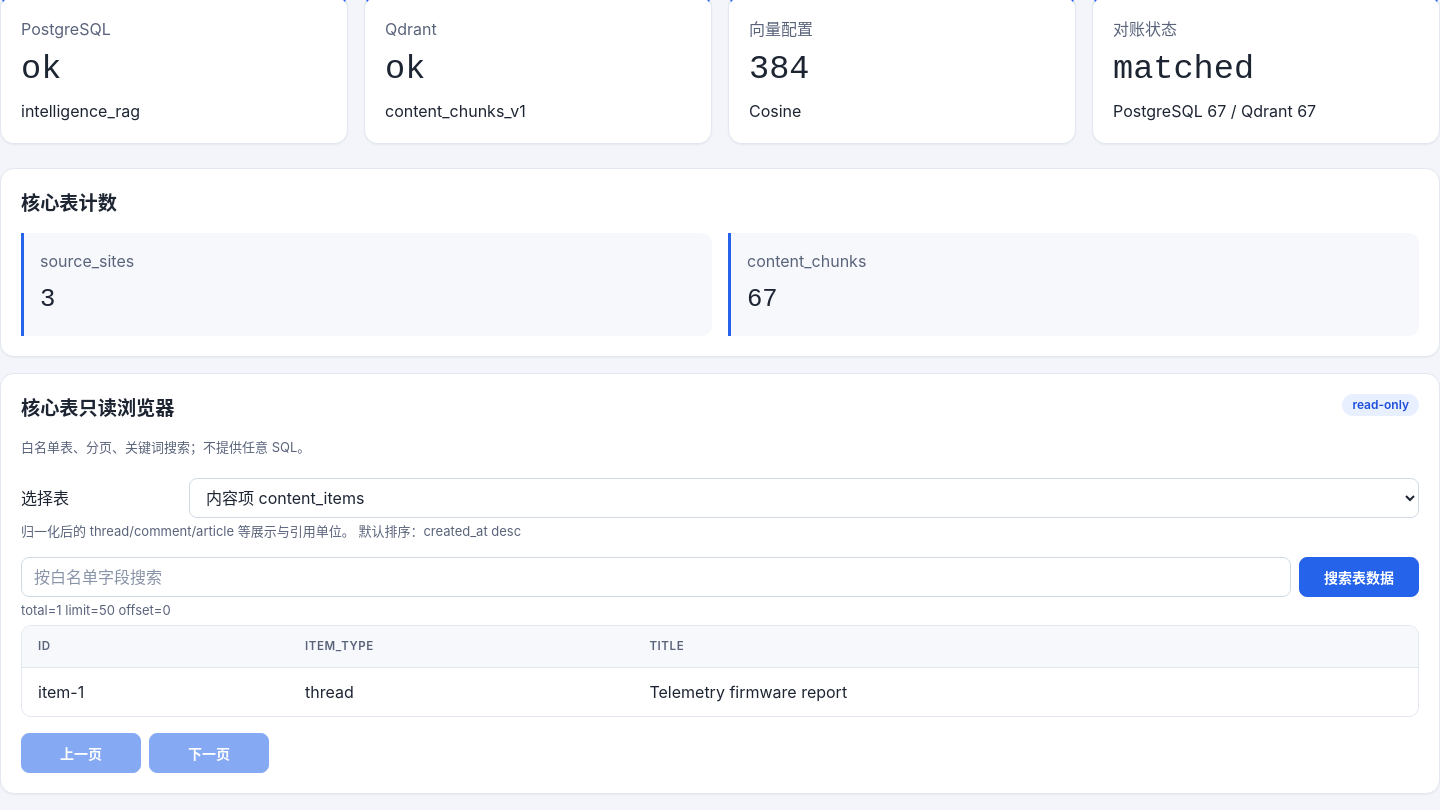
Scenario: DatabasePage › clears stale rows when the next table rows request fails
(page scrolled)
Check: the text "Telemetry firmware report" is shown, box 633,668 -> 1418,716
Select "内容切片 content_chunks" in the dropdown labelled "选择表" at (804,498), box 189,478 -> 1419,518
(page scrolled)
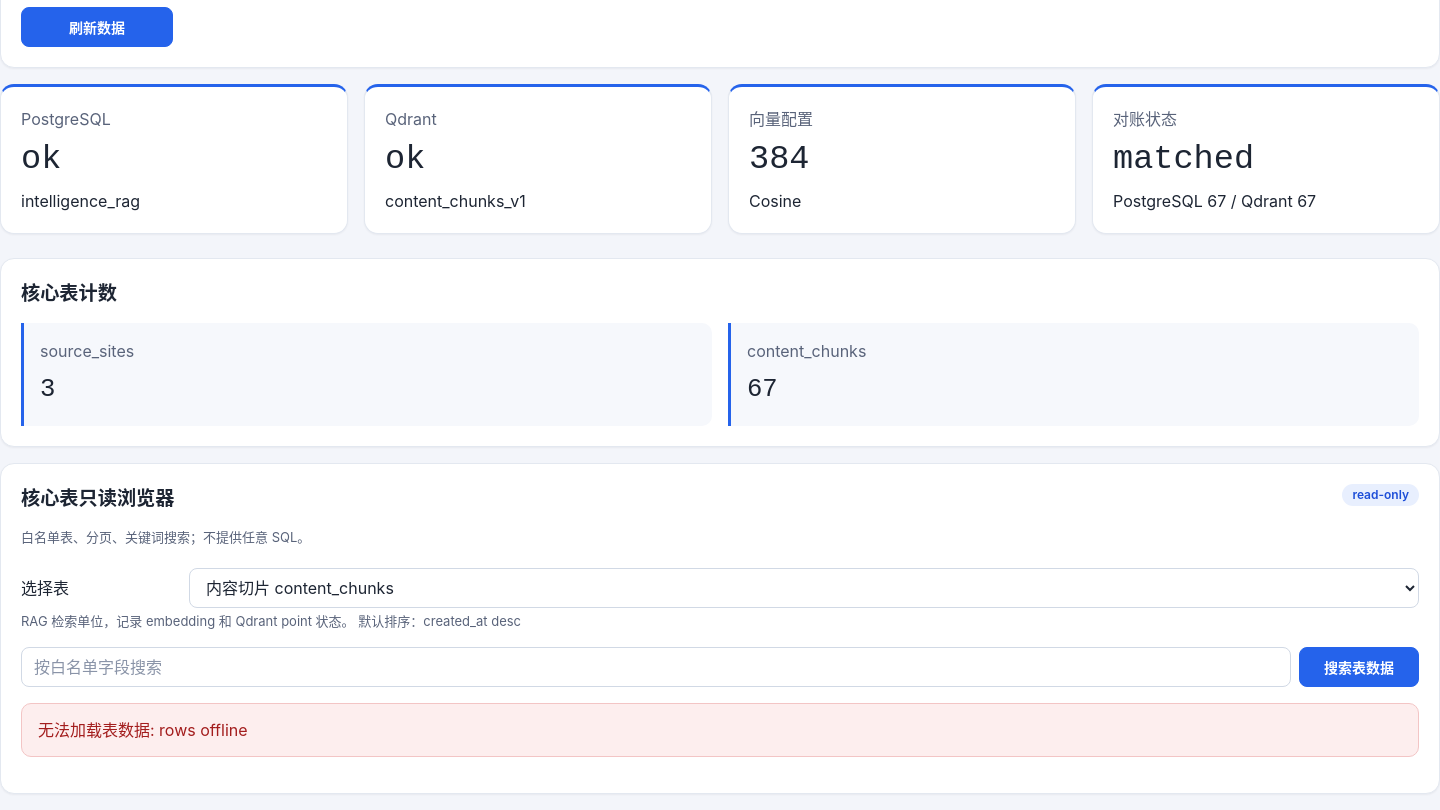
Check: the message reads "无法加载表数据: rows offline", box 38,720 -> 248,740
Check: the text "Telemetry firmware report" is gone
